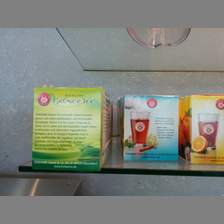tea: (33, 86, 111, 173), (120, 94, 180, 161), (183, 94, 224, 166)
